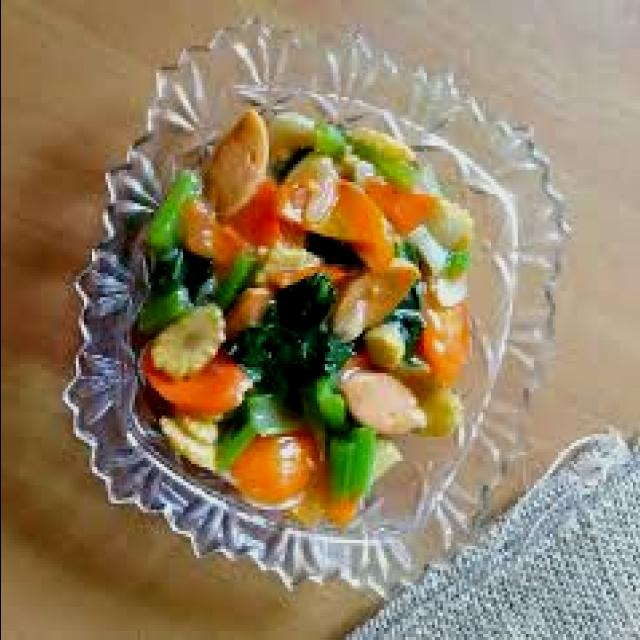capcay: (129, 109, 471, 531)
